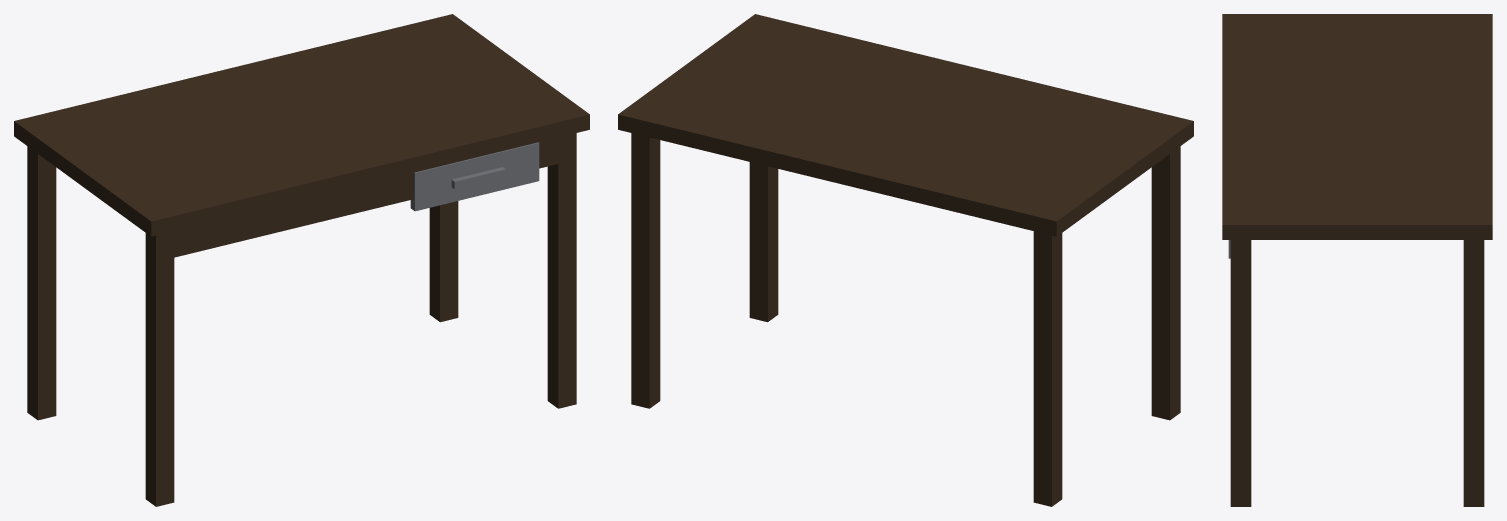
File: welt_schreibtisch.glb
3 renders of one model, left to right at view 1: azimuth 30°, elevation 25°; view 2: azimuth 150°, elevation 25°; view 3: azimuth 270°, elevation 25°, orthographic.
Parts seen in each view (by area): view 1: platte, bein_0, bein_2, bein_1, zarge_vorn, schublade, bein_3; view 2: platte, bein_2, bein_3, bein_0, bein_1; view 3: platte, bein_1, bein_3.
Part boxes in pixels (box(x1,y1,x2,y2)): platte: box(14, 14, 589, 236); bein_0: box(145, 231, 174, 506); bein_2: box(27, 146, 56, 420); bein_1: box(547, 133, 576, 408); zarge_vorn: box(171, 136, 564, 257); schublade: box(410, 142, 539, 211); bein_3: box(429, 201, 458, 322); platte: box(618, 14, 1193, 236); bein_2: box(1033, 231, 1062, 506); bein_3: box(631, 133, 660, 408); bein_0: box(1151, 146, 1180, 420); bein_1: box(749, 162, 778, 322); platte: box(1222, 14, 1492, 239); bein_1: box(1230, 240, 1251, 506); bein_3: box(1463, 240, 1484, 506).
Bounding box in the file's own units: 1.2 × 0.76 × 0.65.
